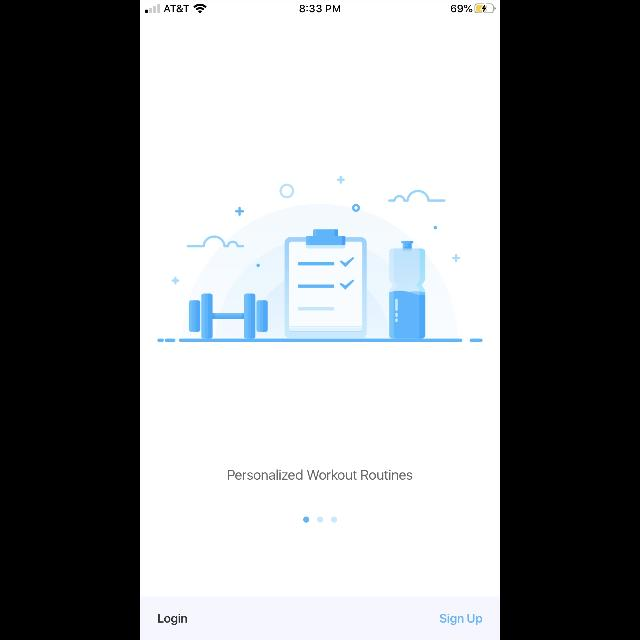image: (157, 175, 483, 342)
pageindicator: (303, 517, 337, 523)
text: (228, 468, 412, 479), (440, 614, 482, 624), (158, 614, 188, 624)
uppertaskbar: (140, 0, 500, 14)
